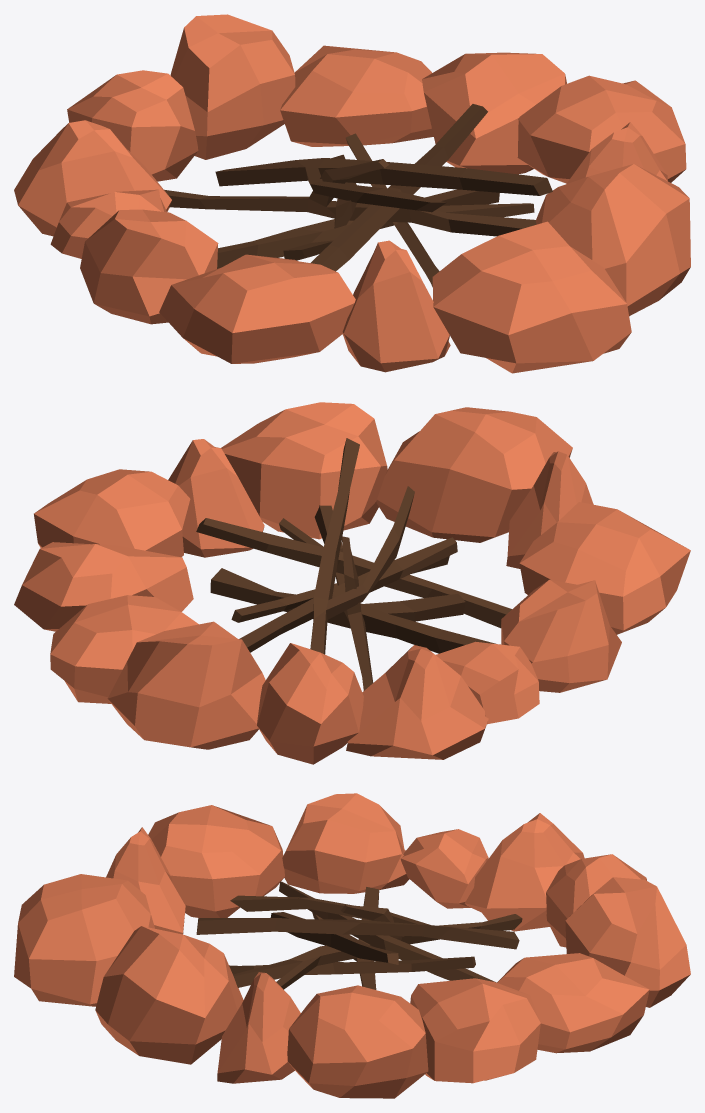
The model's file is Bonfire.fbx.
The picture shows the model from 3 angles, top to bottom: view 1: azimuth 30°, elevation 25°; view 2: azimuth 150°, elevation 25°; view 3: azimuth 270°, elevation 25°; orthographic projection. The views are drawn at different scales.
Visible parts, largest first — view 1: Bonfire_V01; view 2: Bonfire_V01; view 3: Bonfire_V01.
Boxes of the visible parts, x1=… form: Bonfire_V01: x1=14, y1=14, x2=690, y2=373; Bonfire_V01: x1=14, y1=402, x2=690, y2=764; Bonfire_V01: x1=14, y1=793, x2=690, y2=1098.
Size of the model in its own units: 96.19 by 19.77 by 109.
